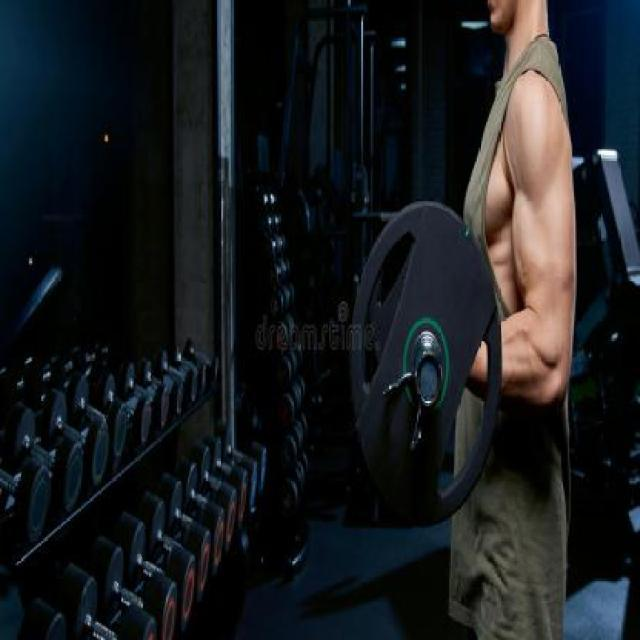barbell: (353, 197, 507, 533)
